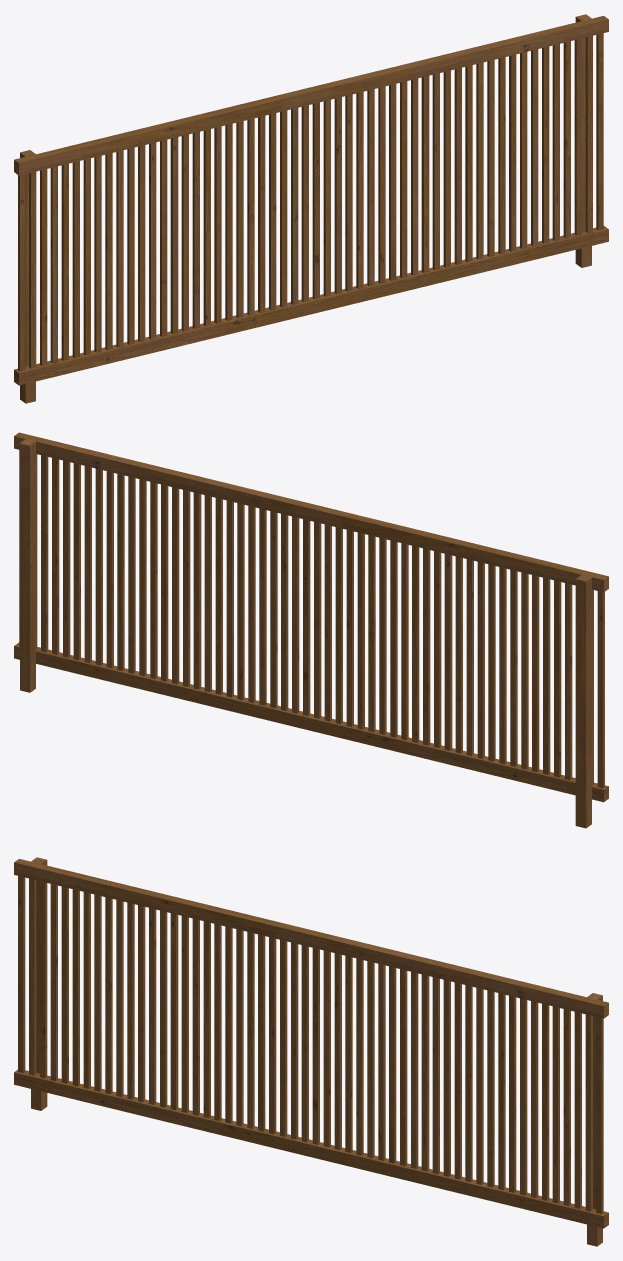
The model's file is EAFtatehosogoushi_w1998-h720_naturalpine.fbx.
3 renders of one model, top to bottom at view 1: azimuth 30°, elevation 25°; view 2: azimuth 150°, elevation 25°; view 3: azimuth 330°, elevation 25°, orthographic.
Parts seen in each view (by area): view 1: EAFtatehosogoushi_w1998-h720_naturalpine; view 2: EAFtatehosogoushi_w1998-h720_naturalpine; view 3: EAFtatehosogoushi_w1998-h720_naturalpine.
Boxes of the visible parts, <box> form: EAFtatehosogoushi_w1998-h720_naturalpine: <box>14,14,608,403</box>; EAFtatehosogoushi_w1998-h720_naturalpine: <box>14,432,608,828</box>; EAFtatehosogoushi_w1998-h720_naturalpine: <box>14,857,608,1246</box>.
Bounding box in the file's own units: 200 × 80 × 6.5.
1 material, 1 textured.
